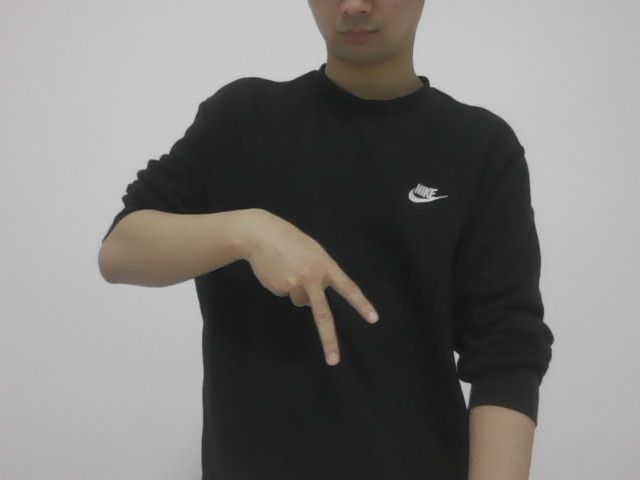walk: (231, 208, 394, 371)
